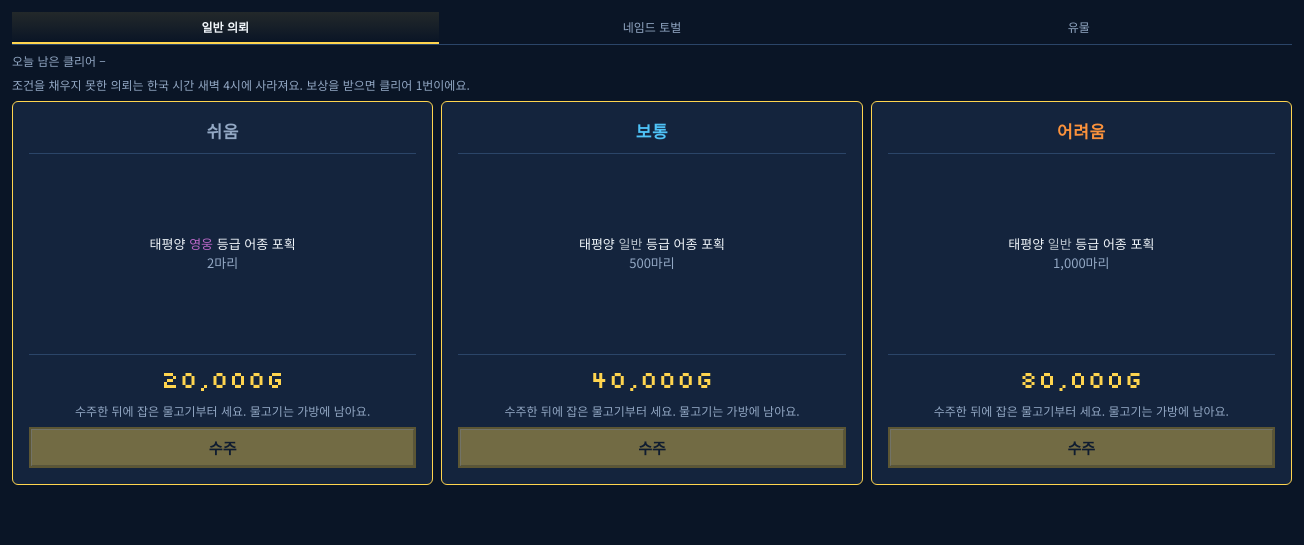
Test: BountyPanel › 유물 화면 — 해역 유물 카드와 교환 버튼을 보인다
What coordinates should you click on to do the following:
click the button "유물"
I would click on:
 (1079, 28)
Its box is [865, 12, 1292, 44].
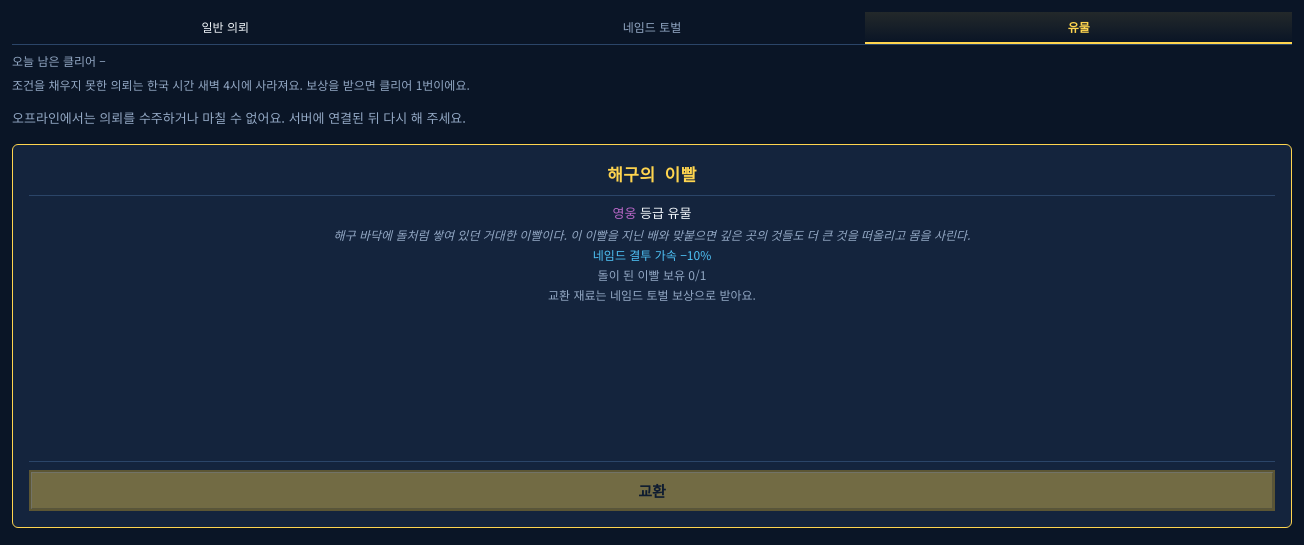
Result: the text "해구의 이빨" is shown at [607, 163, 697, 185]
Result: the text "돌이 된 이빨 보유 0/1" is shown at [598, 266, 706, 283]
Result: the button "교환" is disabled at [29, 470, 1275, 511]
